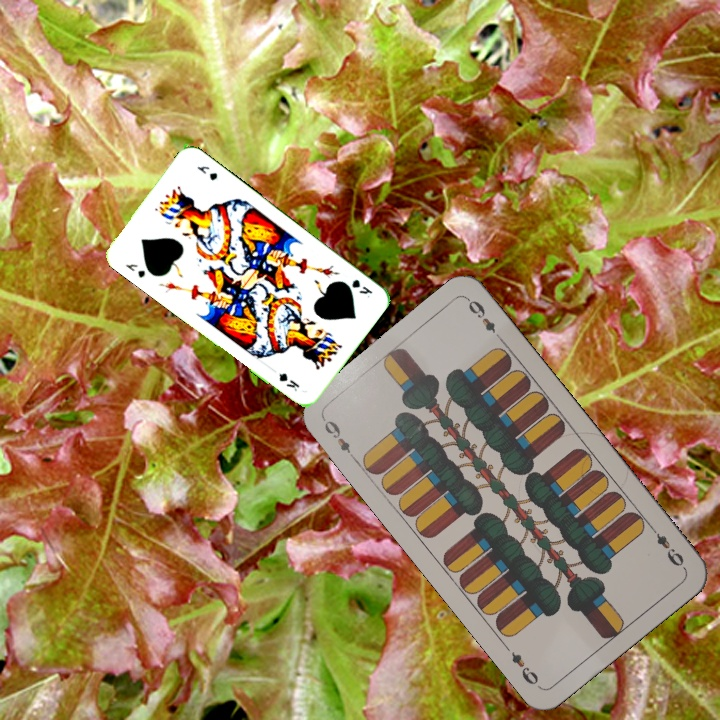E9: (646, 522, 688, 571), (317, 413, 359, 462)
GK: (347, 275, 375, 300), (121, 260, 148, 281)
